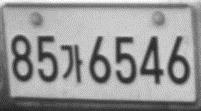4: (139, 35, 164, 84)
5: (115, 36, 137, 84), (37, 35, 58, 83)
6: (166, 34, 190, 84), (88, 35, 111, 83)
8: (10, 34, 32, 81)
가: (60, 44, 83, 83)
